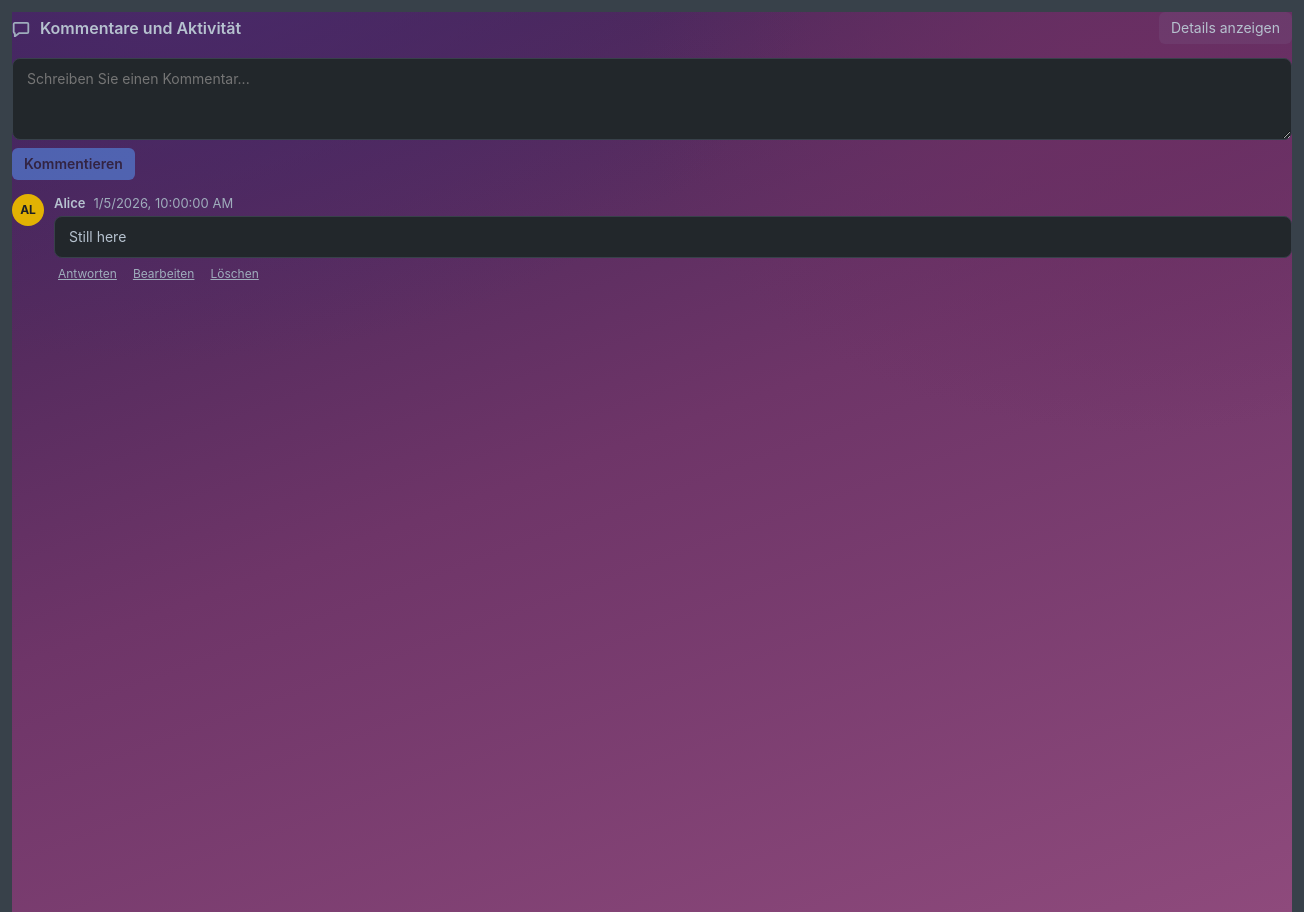
CardComments › keeps the comment listed and reports the error when a delete fails
Step 1. Click the button "Löschen" → (235, 274), box [206, 262, 263, 286]
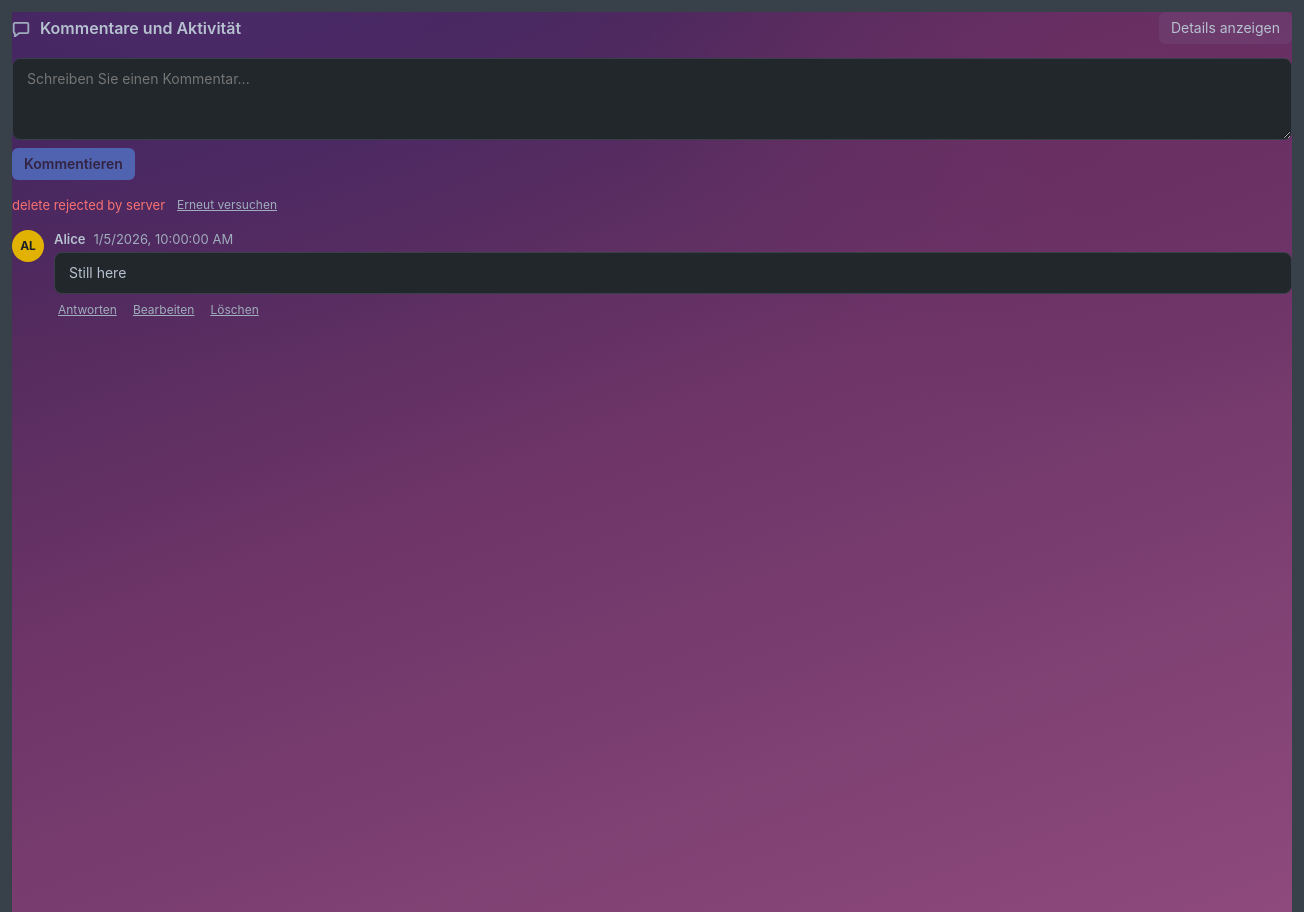
expect the text "Still here" is shown: met, box [54, 252, 1292, 294]
expect the message shows "delete rejected by server": met, box [12, 197, 165, 213]
